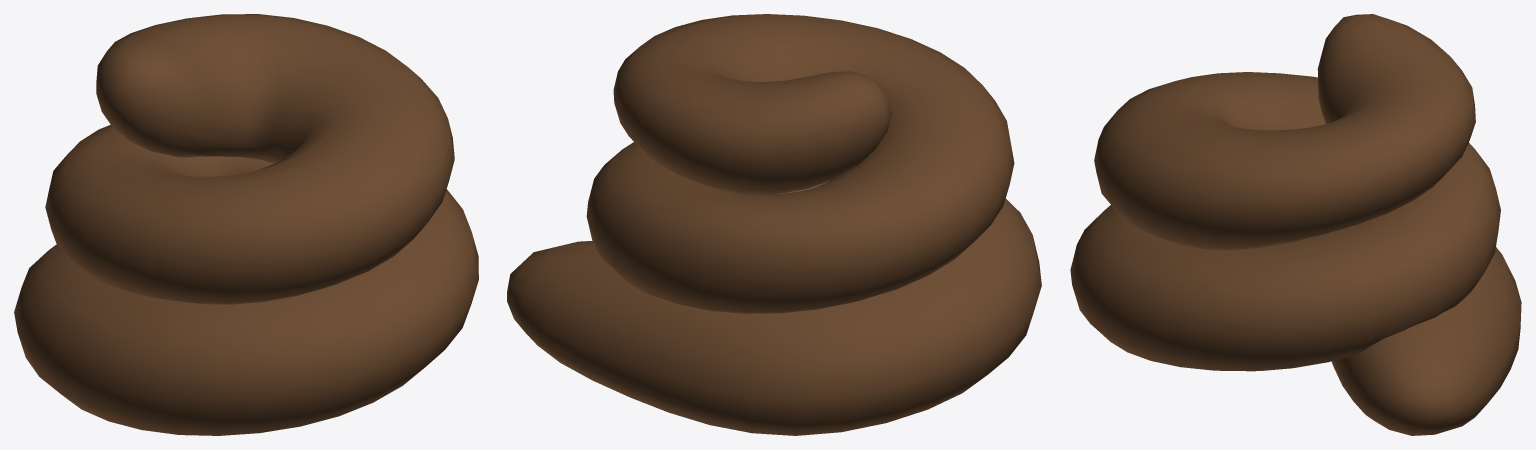
The model's file is Poop.fbx.
3 renders of one model, left to right at view 1: azimuth 30°, elevation 25°; view 2: azimuth 150°, elevation 25°; view 3: azimuth 270°, elevation 25°, orthographic. The views are drawn at different scales.
Parts seen in each view (by area): view 1: Poop; view 2: Poop; view 3: Poop.
Boxes of the visible parts, <box> form: Poop: <box>14,14,478,435</box>; Poop: <box>507,14,1041,435</box>; Poop: <box>1070,14,1521,435</box>.
Size of the model in its own units: 348 by 249 by 325.
